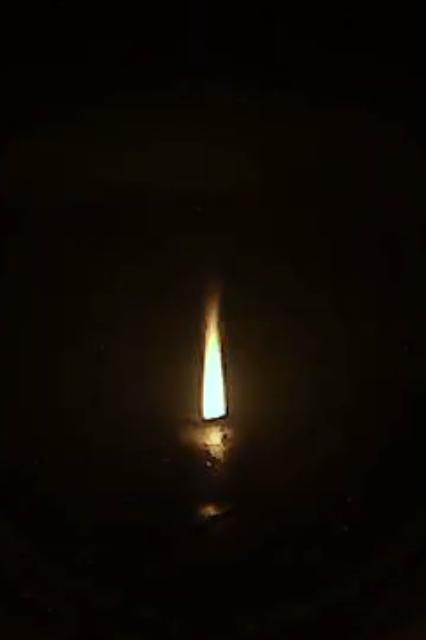burner flame: (196, 280, 233, 422)
